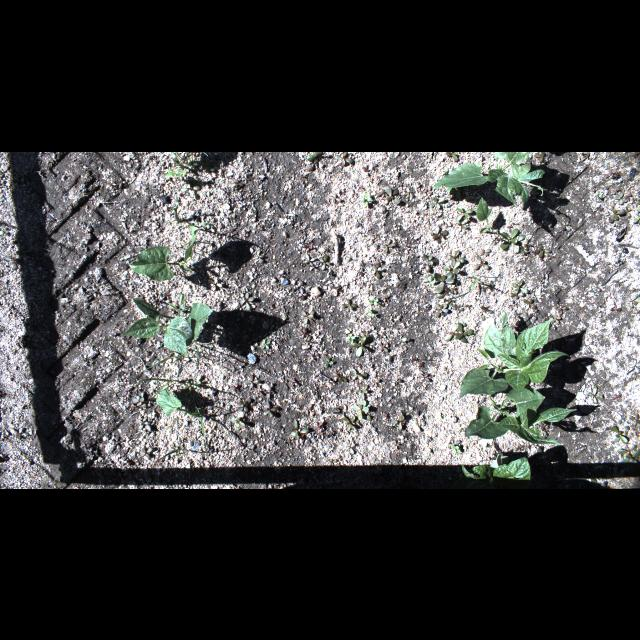crop: (460, 313, 570, 399), (464, 386, 578, 446), (434, 152, 548, 210), (121, 294, 215, 358), (126, 223, 198, 281), (461, 452, 531, 488), (156, 387, 198, 418), (476, 196, 492, 232)
weed: (498, 227, 528, 255), (442, 321, 478, 342), (434, 272, 456, 298), (445, 248, 467, 270), (617, 442, 637, 466), (288, 420, 310, 440), (455, 209, 475, 231), (510, 277, 532, 297), (351, 402, 371, 422), (582, 384, 602, 404), (611, 424, 631, 444), (178, 180, 200, 198), (304, 152, 328, 168), (237, 394, 256, 414), (368, 260, 387, 280), (426, 193, 448, 210), (202, 156, 225, 172), (608, 206, 628, 224), (238, 290, 256, 310), (128, 387, 148, 405), (9, 424, 29, 442), (4, 252, 22, 272), (182, 374, 202, 392), (352, 336, 368, 358), (342, 414, 360, 432), (473, 254, 491, 272), (432, 302, 452, 318), (382, 188, 402, 204), (316, 254, 336, 270), (390, 410, 404, 432), (334, 152, 356, 166), (260, 399, 278, 415), (421, 252, 437, 270), (537, 241, 553, 259), (298, 308, 316, 324), (339, 296, 359, 310), (358, 194, 378, 208), (600, 166, 620, 180), (165, 166, 188, 178), (432, 225, 448, 241), (208, 274, 222, 292), (380, 240, 398, 252), (138, 446, 156, 458), (166, 445, 184, 457), (516, 313, 536, 323), (610, 190, 630, 200), (304, 402, 318, 416), (482, 276, 496, 290), (296, 285, 310, 299), (356, 382, 368, 398), (231, 176, 247, 188), (10, 227, 26, 239), (359, 161, 378, 171), (350, 369, 370, 378), (444, 152, 466, 160), (377, 340, 389, 354), (323, 356, 337, 368), (524, 298, 538, 310), (366, 294, 380, 306), (397, 333, 411, 345), (558, 217, 570, 231), (136, 416, 150, 428), (554, 312, 566, 326), (200, 418, 207, 442), (346, 438, 356, 454), (392, 372, 402, 388), (319, 424, 329, 440), (327, 193, 343, 203), (630, 204, 638, 224), (609, 304, 625, 314), (246, 376, 258, 389), (344, 333, 356, 345), (471, 276, 479, 294), (296, 326, 310, 336), (450, 444, 464, 454), (480, 303, 494, 313), (198, 220, 212, 230), (304, 251, 314, 265), (628, 360, 638, 374), (232, 418, 245, 428), (629, 292, 637, 308), (418, 373, 432, 382), (260, 337, 270, 349), (366, 309, 380, 317), (454, 301, 464, 311), (417, 358, 425, 368), (538, 152, 546, 162), (480, 248, 492, 254), (596, 188, 604, 196)
